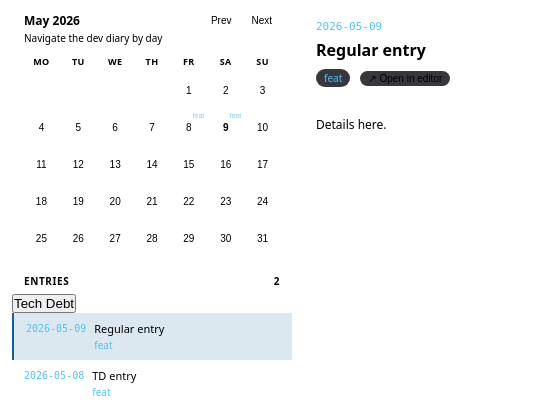
DiaryView › filters to only tech-debt entries when Tech Debt chip is active
This screenshot has width=540, height=413.
Click the button "Tech Debt".
click(44, 304)  # box left=12, top=294, right=76, bottom=313
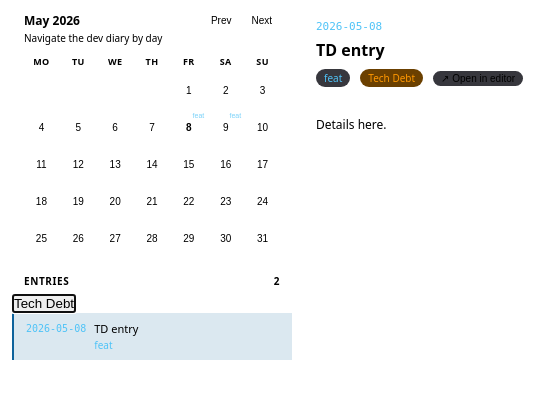
Expected: the text "TD entry" below "Entries" is shown, left=94, top=321, right=138, bottom=336
Expected: the button "Regular entry" is gone
